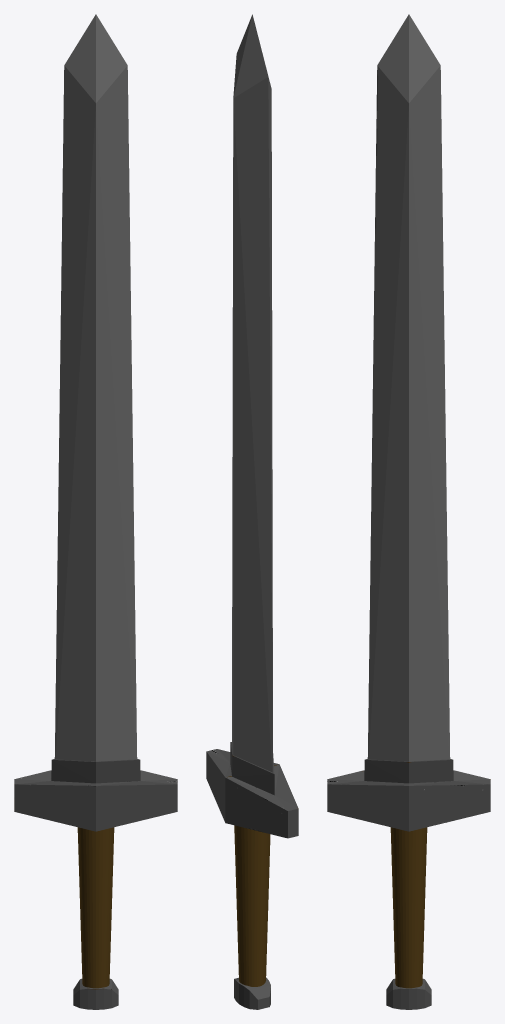
The model's file is Weapon.obj.
3 renders of one model, left to right at view 1: azimuth 90°, elevation 25°; view 2: azimuth 210°, elevation 25°; view 3: azimuth 270°, elevation 25°, orthographic.
Parts seen in each view (by area): view 1: W_Blade, W_Handle; view 2: W_Blade, W_Handle; view 3: W_Blade, W_Handle.
Boxes of the visible parts, <box> form: W_Blade: <box>54,14,137,761</box>; W_Handle: <box>14,759,177,1009</box>; W_Blade: <box>232,14,272,772</box>; W_Handle: <box>206,742,298,1009</box>; W_Blade: <box>367,14,450,761</box>; W_Handle: <box>327,759,490,1009</box>.
Size of the model in its own units: 0.1476 by 2.57 by 0.3843.
Materials: 1 (1 with a texture image).
